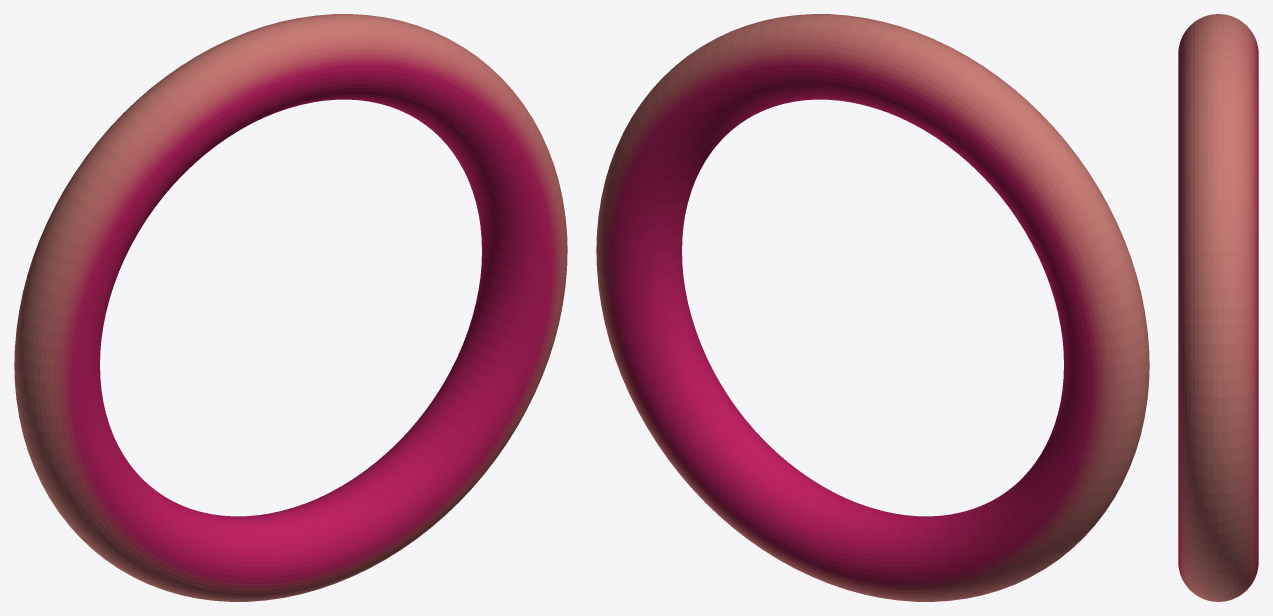
The picture shows the model from 3 angles, left to right: view 1: azimuth 30°, elevation 25°; view 2: azimuth 150°, elevation 25°; view 3: azimuth 270°, elevation 25°; orthographic projection. The views are drawn at different scales.
Parts seen in each view (by area): view 1: world; view 2: world; view 3: world.
Boxes of the visible parts, bbox=[...] form: world: bbox=[14, 14, 567, 601]; world: bbox=[596, 14, 1149, 601]; world: bbox=[1178, 14, 1258, 601].
Bounding box in the file's own units: 22.4 × 22.4 × 3.06.
